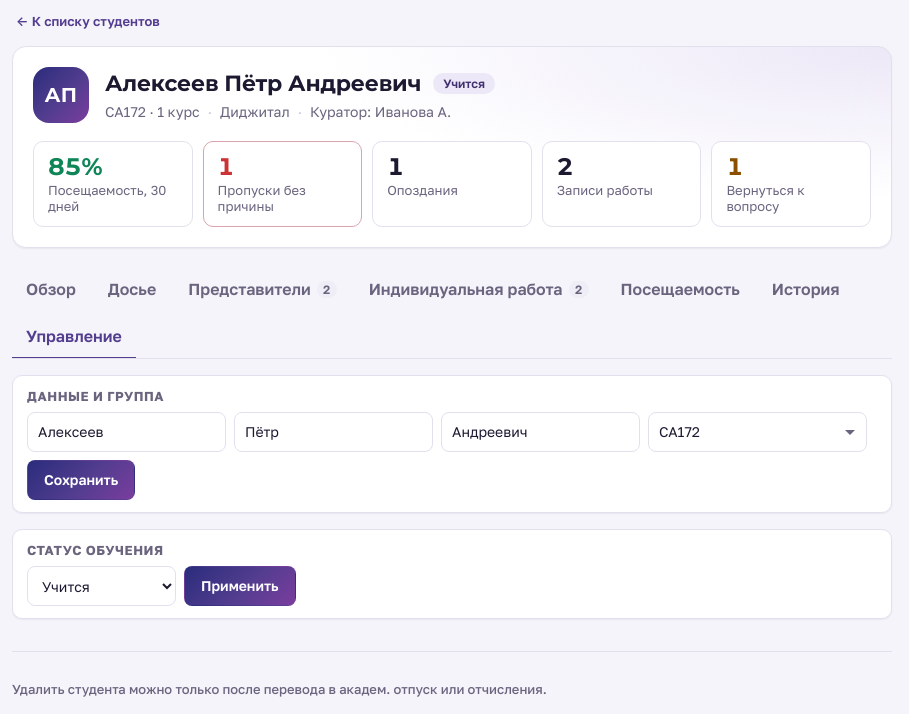
StudentCardPage — управление › список групп для перевода — только активные; текущая группа есть всегда
Check: the button "Применить" is shown, box [184, 566, 296, 606]
Click the dropdown named "Группа" at (758, 432), box [648, 412, 867, 452]
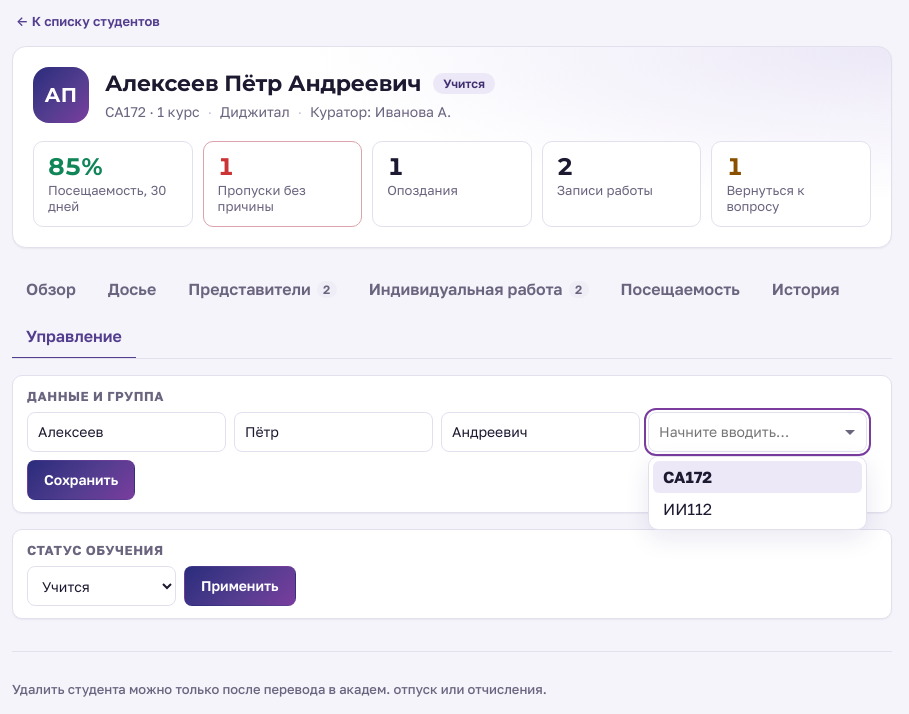
Check: the number of options is 2, box [653, 461, 862, 493]; [663, 499, 712, 519]
